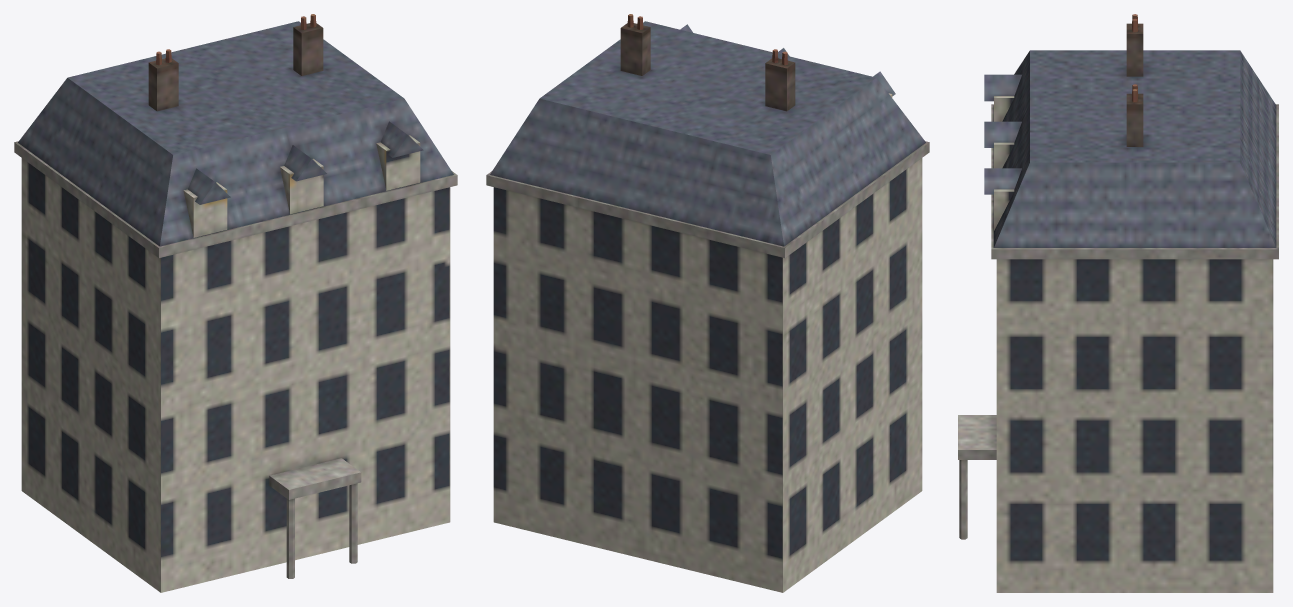
File: SM_House_Terrace_B.fbx
3 renders of one model, left to right at view 1: azimuth 30°, elevation 25°; view 2: azimuth 150°, elevation 25°; view 3: azimuth 270°, elevation 25°, orthographic.
Parts seen in each view (by area): view 1: SM_House_Terrace_B; view 2: SM_House_Terrace_B; view 3: SM_House_Terrace_B.
Part boxes in pixels (x1,y1,x2,y2): SM_House_Terrace_B: (14,14,457,592); SM_House_Terrace_B: (486,14,929,592); SM_House_Terrace_B: (958,14,1278,592).
Bounding box in the file's own units: 1240 × 1875 × 1160.
1 material, 1 textured.
